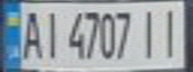0: (100, 8, 118, 61)
4: (63, 7, 84, 60)
7: (115, 7, 136, 61), (81, 7, 100, 60)
A: (18, 6, 45, 60)
I: (154, 3, 184, 60), (136, 4, 163, 60), (39, 6, 63, 61)
